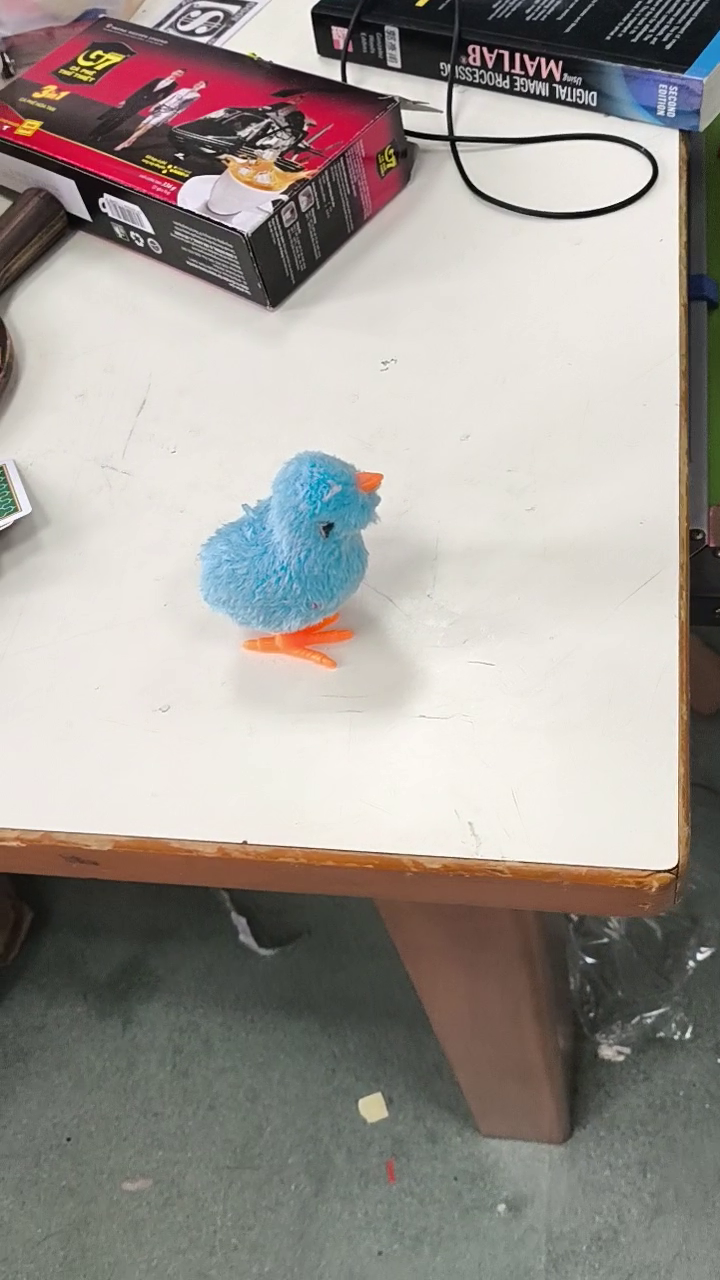blue chicken: (194, 447, 386, 673)
